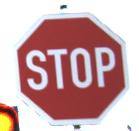Stop sign: (0, 0, 138, 130)
